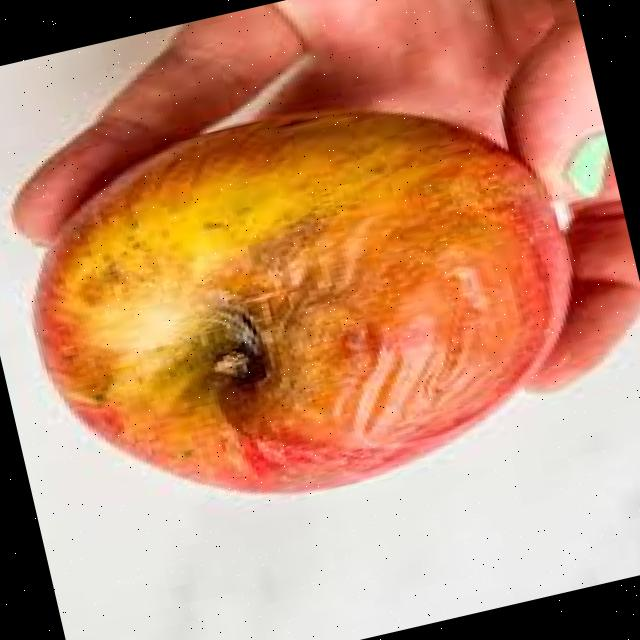overripe: (0, 52, 615, 551)
